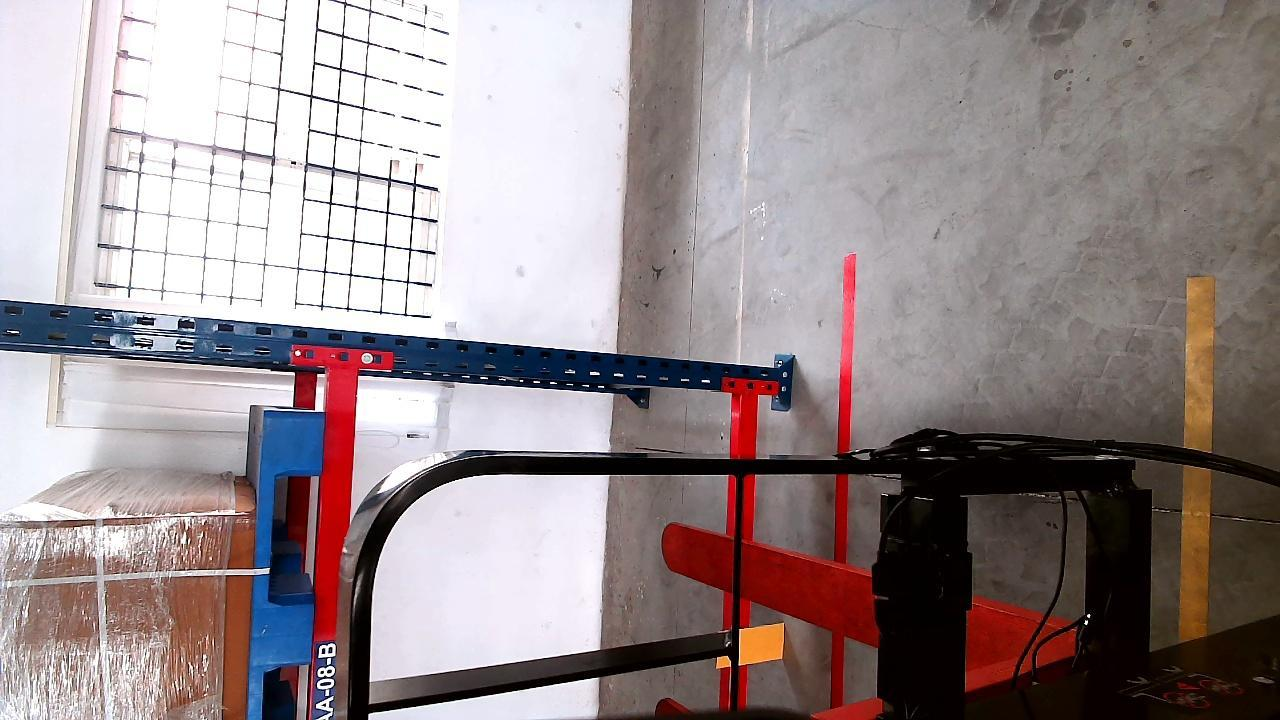red_line: (837, 251, 854, 455)
yellow_line: (1181, 267, 1214, 649)
